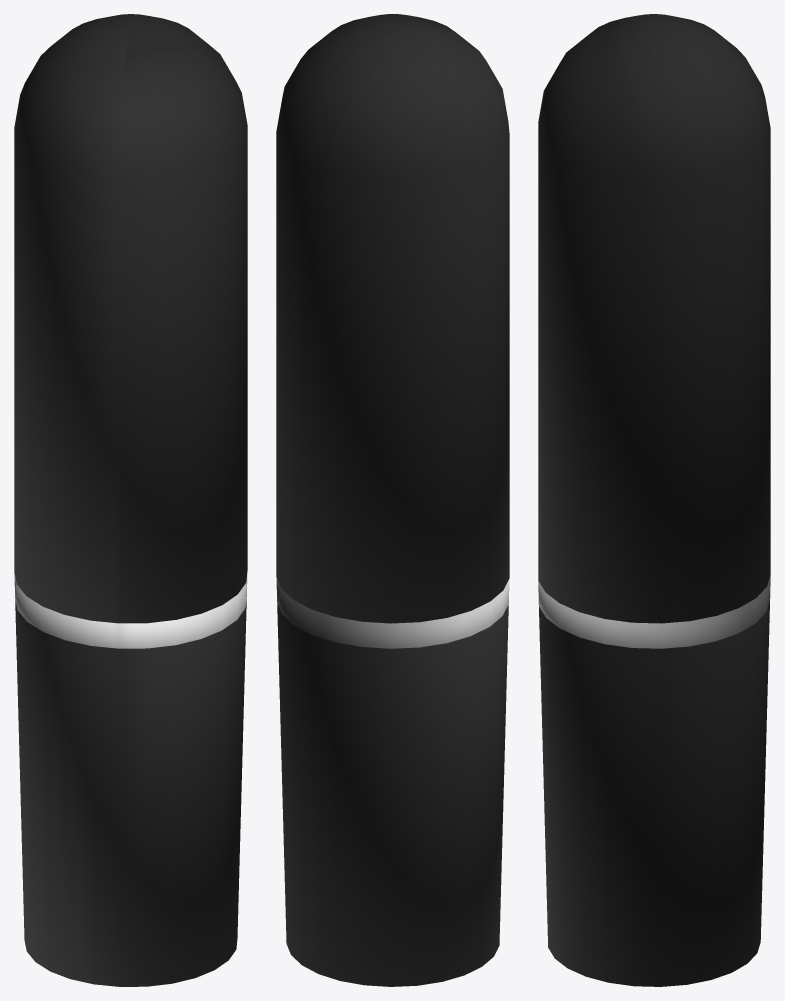
Rendered from lipstick 2.fbx.
The picture shows the model from 3 angles, left to right: view 1: azimuth 30°, elevation 25°; view 2: azimuth 150°, elevation 25°; view 3: azimuth 270°, elevation 25°; orthographic projection.
Parts seen in each view (by area): view 1: cap.001, lipstick; view 2: cap.001, lipstick; view 3: cap.001, lipstick.
Part boxes in pixels (x1,y1,x2,y2): cap.001: (14, 14, 247, 623); lipstick: (14, 571, 247, 986); cap.001: (276, 14, 509, 623); lipstick: (276, 576, 509, 986); cap.001: (538, 14, 770, 623); lipstick: (538, 575, 770, 986).
Bounding box in the file's own units: 101 × 440 × 101.
1 material, 1 textured.
